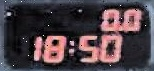-: (115, 24, 122, 29)
0: (97, 33, 120, 60), (120, 8, 139, 29), (100, 8, 117, 29)
1: (32, 35, 40, 61)
5: (77, 33, 95, 60)
8: (42, 34, 62, 62)
X: (65, 38, 74, 52)
